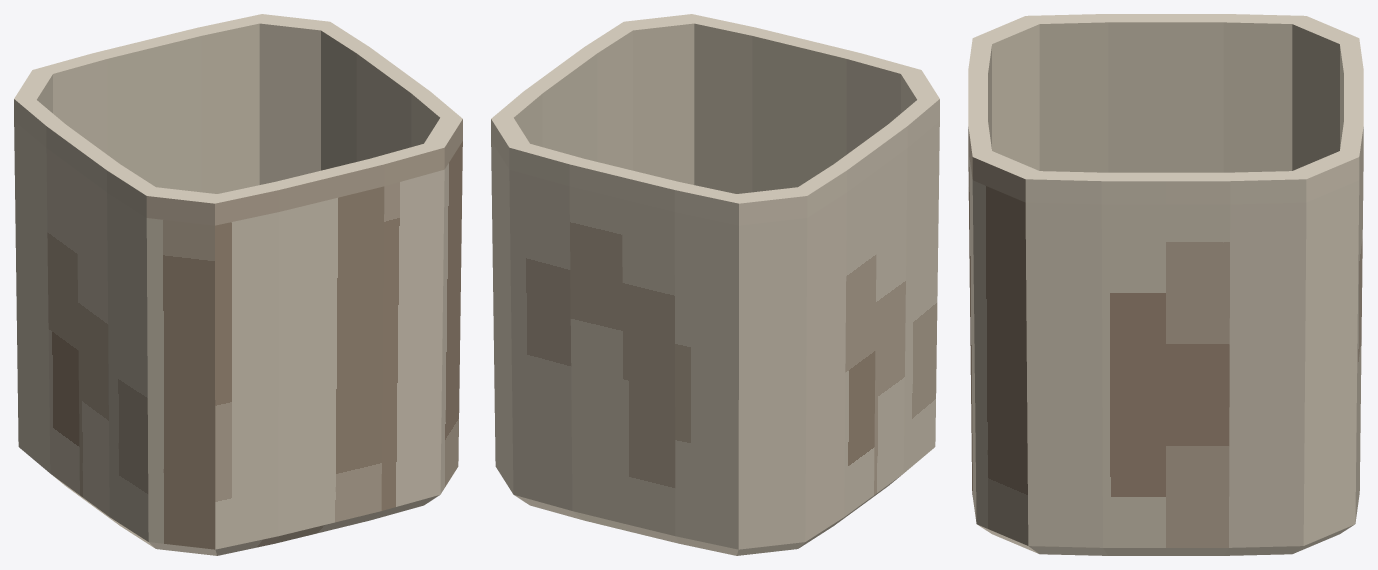
Rendered from antique-shino-square.glb.
3 renders of one model, left to right at view 1: azimuth 30°, elevation 25°; view 2: azimuth 150°, elevation 25°; view 3: azimuth 270°, elevation 25°, orthographic. The views are drawn at different scales.
Parts seen in each view (by area): view 1: antique-shino-square/ceramic-outer-wall-2, antique-shino-square/ceramic-inner-wall-5, antique-shino-square/ceramic-rim-4, antique-shino-square/ceramic-outer-lip-3, antique-shino-square/ceramic-outer-lower-1; view 2: antique-shino-square/ceramic-outer-wall-2, antique-shino-square/ceramic-inner-wall-5, antique-shino-square/ceramic-rim-4, antique-shino-square/ceramic-outer-lip-3, antique-shino-square/ceramic-outer-lower-1; view 3: antique-shino-square/ceramic-outer-wall-2, antique-shino-square/ceramic-inner-wall-5, antique-shino-square/ceramic-rim-4, antique-shino-square/ceramic-outer-lip-3, antique-shino-square/ceramic-outer-lower-1.
Boxes of the visible parts, <box> form: antique-shino-square/ceramic-outer-wall-2: <box>14,121,462,549</box>; antique-shino-square/ceramic-inner-wall-5: <box>37,23,439,193</box>; antique-shino-square/ceramic-rim-4: <box>14,14,462,203</box>; antique-shino-square/ceramic-outer-lip-3: <box>14,99,462,225</box>; antique-shino-square/ceramic-outer-lower-1: <box>53,476,439,555</box>; antique-shino-square/ceramic-outer-wall-2: <box>491,121,939,549</box>; antique-shino-square/ceramic-inner-wall-5: <box>514,23,916,193</box>; antique-shino-square/ceramic-rim-4: <box>491,14,939,203</box>; antique-shino-square/ceramic-outer-lip-3: <box>491,99,939,225</box>; antique-shino-square/ceramic-outer-lower-1: <box>514,476,900,555</box>; antique-shino-square/ceramic-outer-wall-2: <box>968,150,1363,547</box>; antique-shino-square/ceramic-inner-wall-5: <box>988,22,1343,172</box>; antique-shino-square/ceramic-rim-4: <box>968,14,1363,181</box>; antique-shino-square/ceramic-outer-lip-3: <box>968,127,1363,204</box>; antique-shino-square/ceramic-outer-lower-1: <box>977,524,1354,555</box>.
Size of the model in its own units: 0.4375 by 0.4735 by 0.4375.
4 materials, 4 textured.
